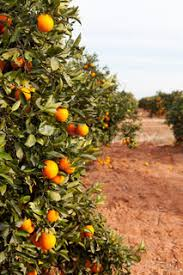orange: (32, 228, 56, 249), (35, 12, 56, 36), (38, 158, 60, 179), (52, 104, 71, 123), (45, 207, 61, 222)
